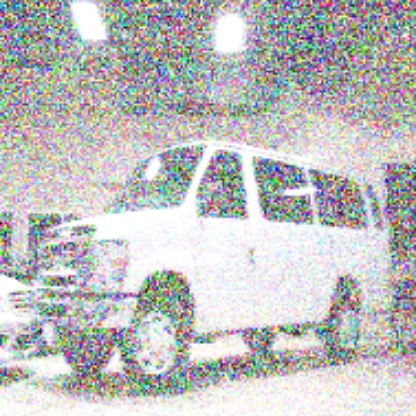Vehicle: (36, 140, 390, 392)
